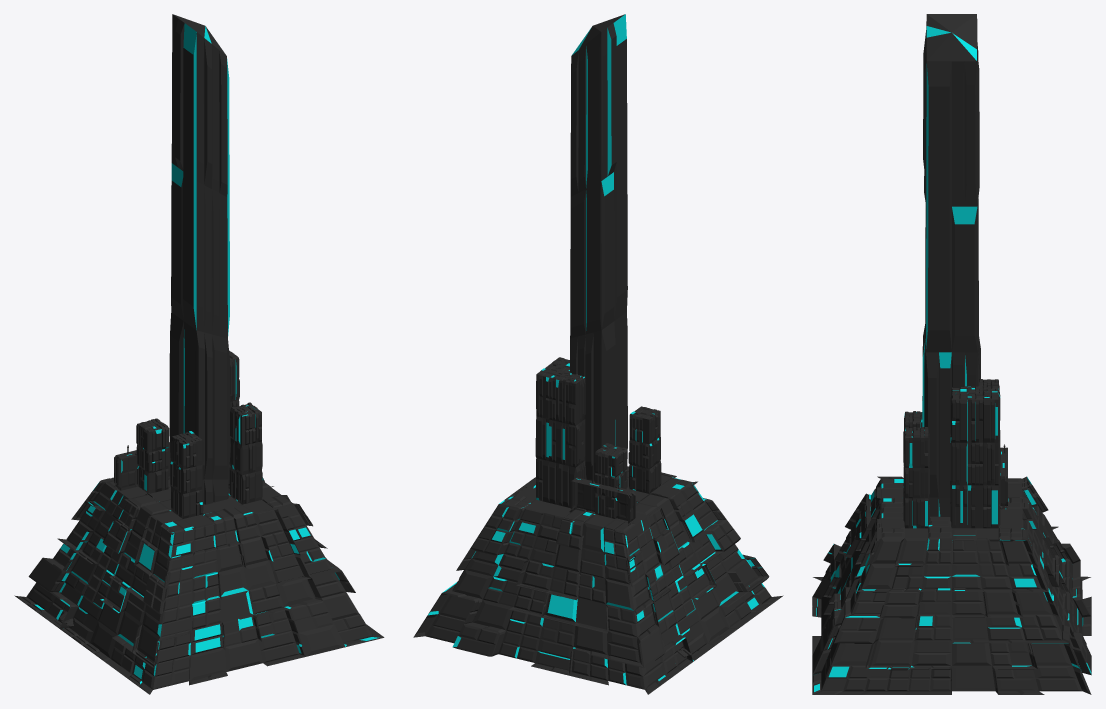
File: Buildings.fbx
The picture shows the model from 3 angles, left to right: view 1: azimuth 30°, elevation 25°; view 2: azimuth 150°, elevation 25°; view 3: azimuth 270°, elevation 25°; orthographic projection. The views are drawn at different scales.
Parts seen in each view (by area): view 1: Piramid 1, Tall Building, Ejecutive Building; view 2: Piramid 1, Tall Building, Ejecutive Building; view 3: Piramid 1, Tall Building, Ejecutive Building.
Part boxes in pixels (box(x1,y1,x2,y2)): Piramid 1: box(14, 350, 384, 694); Tall Building: box(169, 14, 230, 504); Ejecutive Building: box(59, 442, 170, 626); Piramid 1: box(413, 357, 783, 694); Tall Building: box(570, 14, 627, 487); Ejecutive Building: box(569, 465, 694, 657); Piramid 1: box(812, 379, 1091, 694); Tall Building: box(922, 14, 980, 516); Ejecutive Building: box(1000, 444, 1007, 509).
Size of the model in its own units: 1659 by 4037 by 1659.
